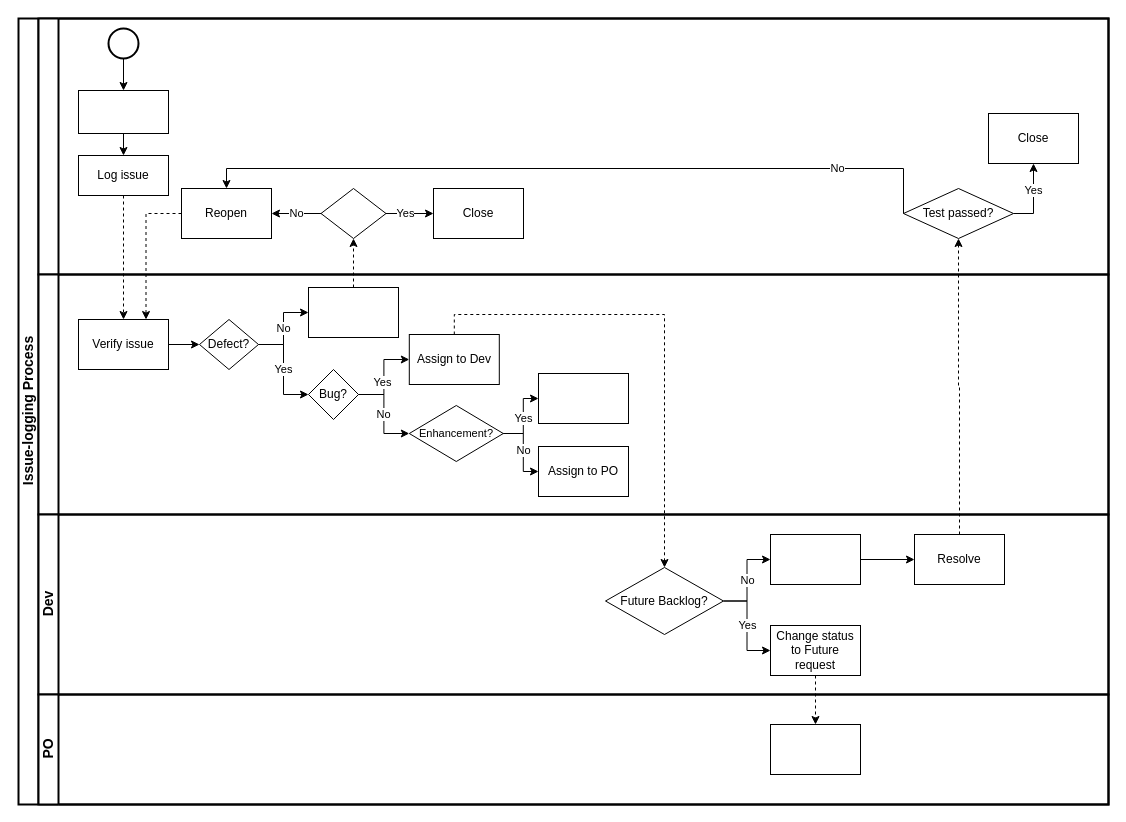
This 1126x822 diagram has some shape labels left out. Each missing label, with the box of its shape:
Accept?: (320, 188, 386, 238)
Assign to BA: (538, 372, 628, 424)
BIDV Banker: (37, 17, 1109, 275)
Change status to Reject: (308, 286, 398, 338)
Fix bug: (770, 534, 860, 584)
Open Google Sheet: (78, 90, 168, 134)
QA: (37, 273, 1109, 515)
Verify backlog: (770, 724, 860, 774)
